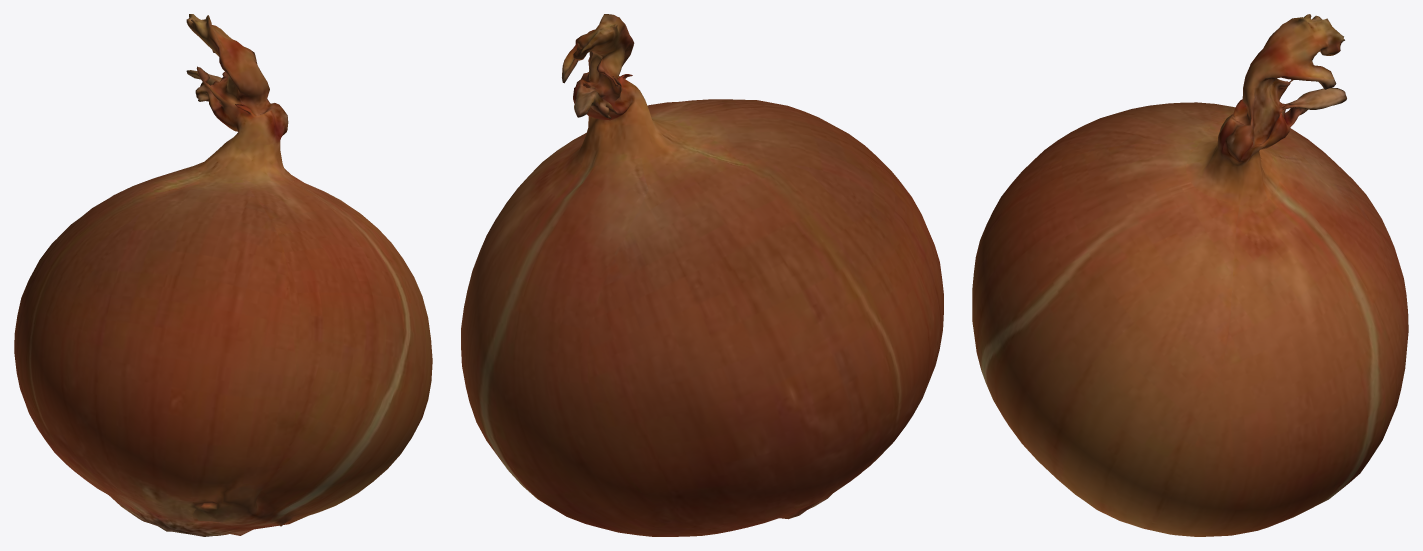
The model's file is onion.glb.
3 views of the same model, side by side, from view 1: azimuth 30°, elevation 25°; view 2: azimuth 150°, elevation 25°; view 3: azimuth 270°, elevation 25° (orthographic). The views are drawn at different scales.
Visible parts, largest first — view 1: onion_body; view 2: onion_body; view 3: onion_body.
Part boxes in pixels (x1=…): onion_body: x1=14, y1=14, x2=432, y2=536; onion_body: x1=461, y1=14, x2=943, y2=536; onion_body: x1=972, y1=14, x2=1408, y2=536.
Size of the model in its own units: 0.1678 by 0.2 by 0.1589.
Materials: 1 (1 with a texture image).
